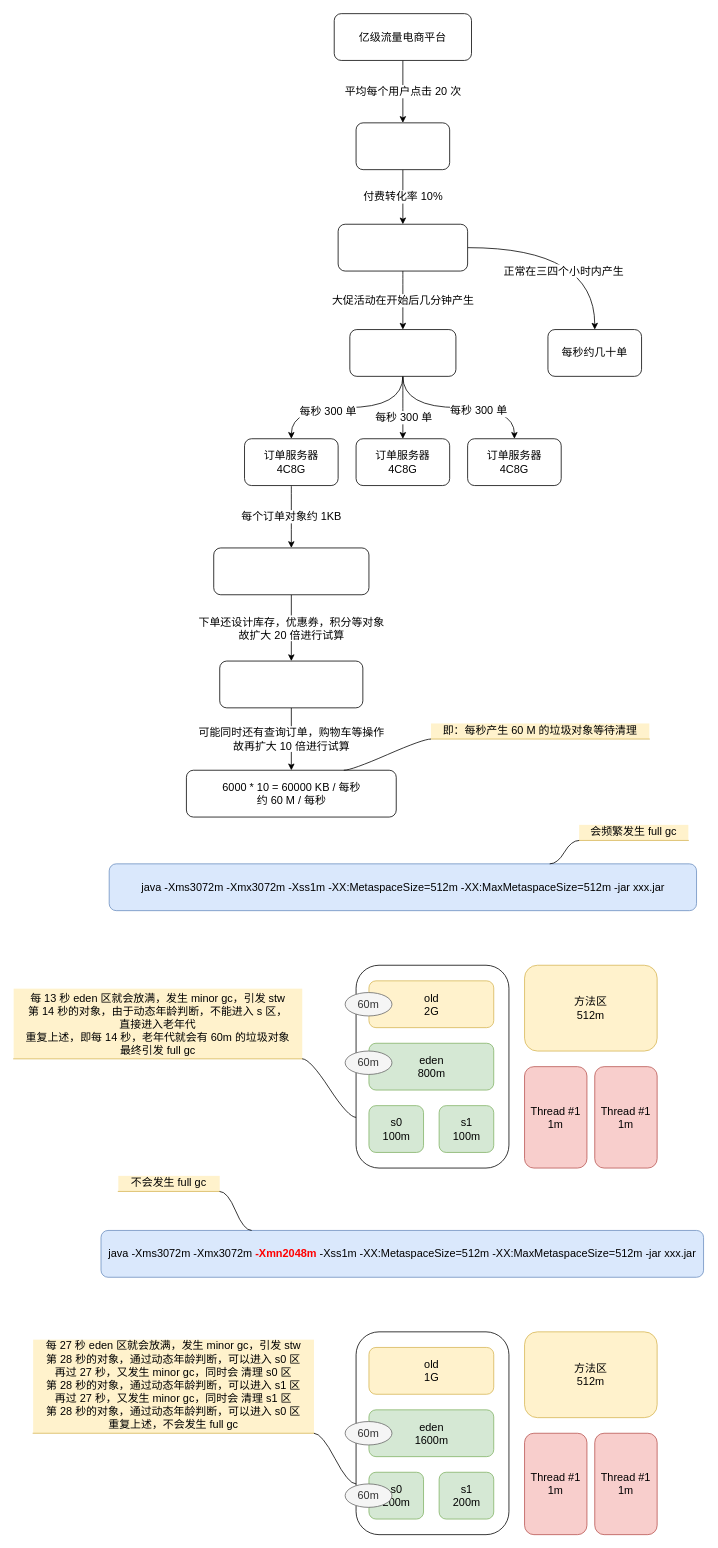
This 718x1548 diagram has some shape labels left out. Each missing label, with the centre of its shape:
"300 * 20 = 6000 KB / 每秒 约 6 M / 每秒" belongs at (291,684).
"日均订单成交 50 万单" belongs at (402,247).
"日活用户 500 万" belongs at (402,146).
"每秒约 1000 多单" belongs at (402,352).
"每秒约生成 300KB 订单数据" belongs at (291,571).
